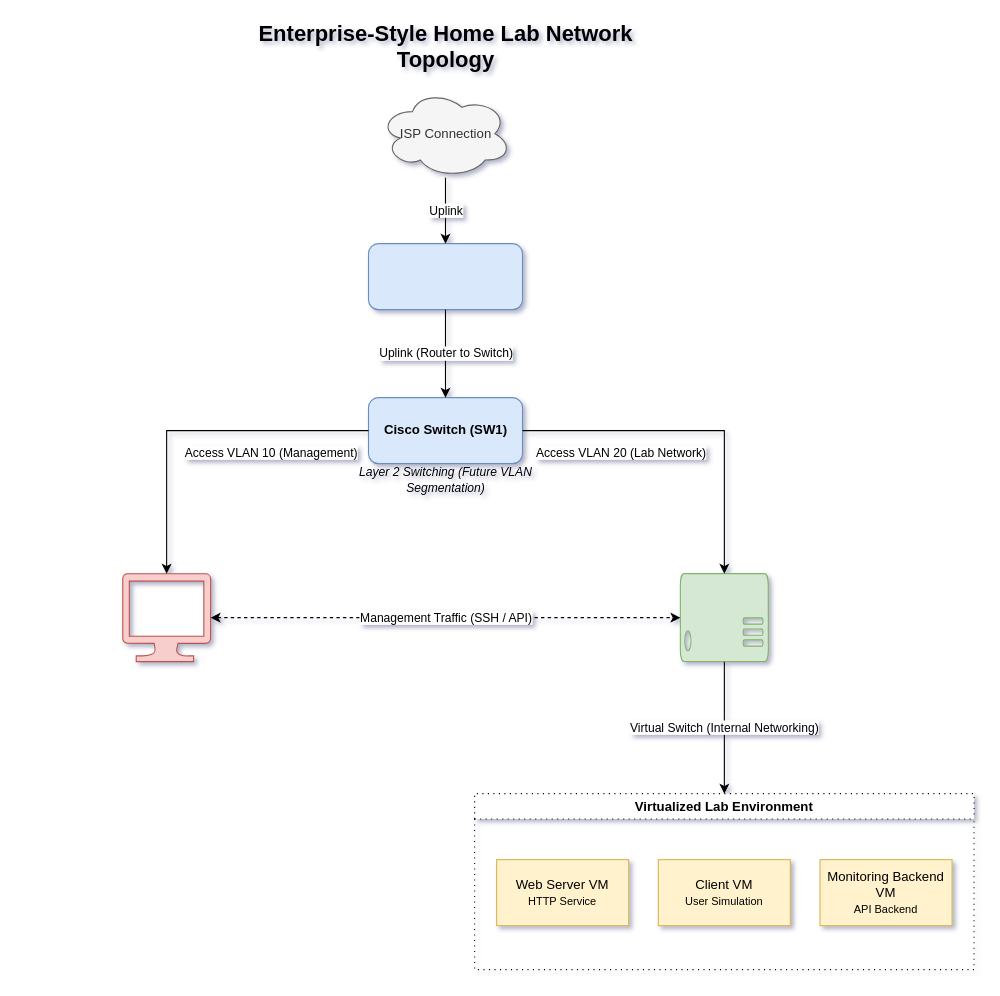
Image size: 1000x996. Some labels were removed from this diagram. The shapes that lost their labels are listed below. From the top down, each one's centre as x and y in pixels, then its label:
At point (444, 276): "Home Router / Gateway".
At point (166, 617): "Main PC / Command Station (Management & Dev)".
At point (723, 617): "Lab Server (VM Host)".
